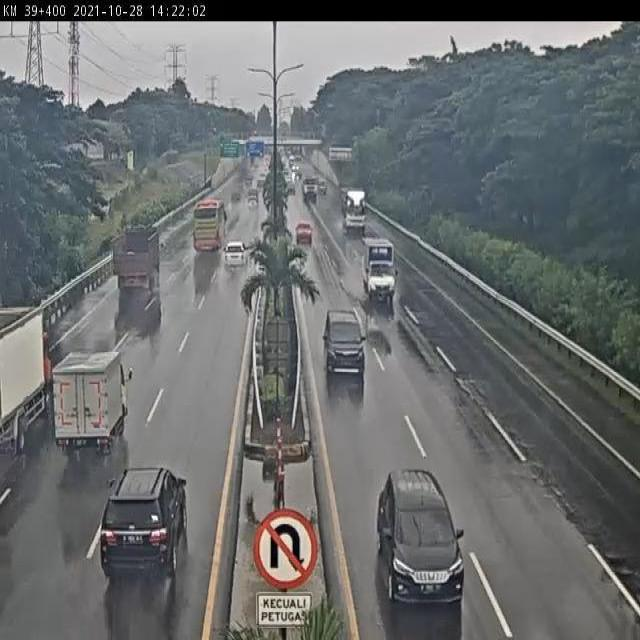big bus: (191, 202, 223, 254)
car: (376, 470, 467, 602), (99, 468, 188, 584), (323, 308, 365, 375), (221, 238, 251, 270), (294, 218, 314, 246)
truck-l-: (0, 303, 54, 453), (114, 227, 161, 292), (337, 184, 367, 233)
truck-s-: (48, 351, 131, 458), (362, 236, 397, 300)
